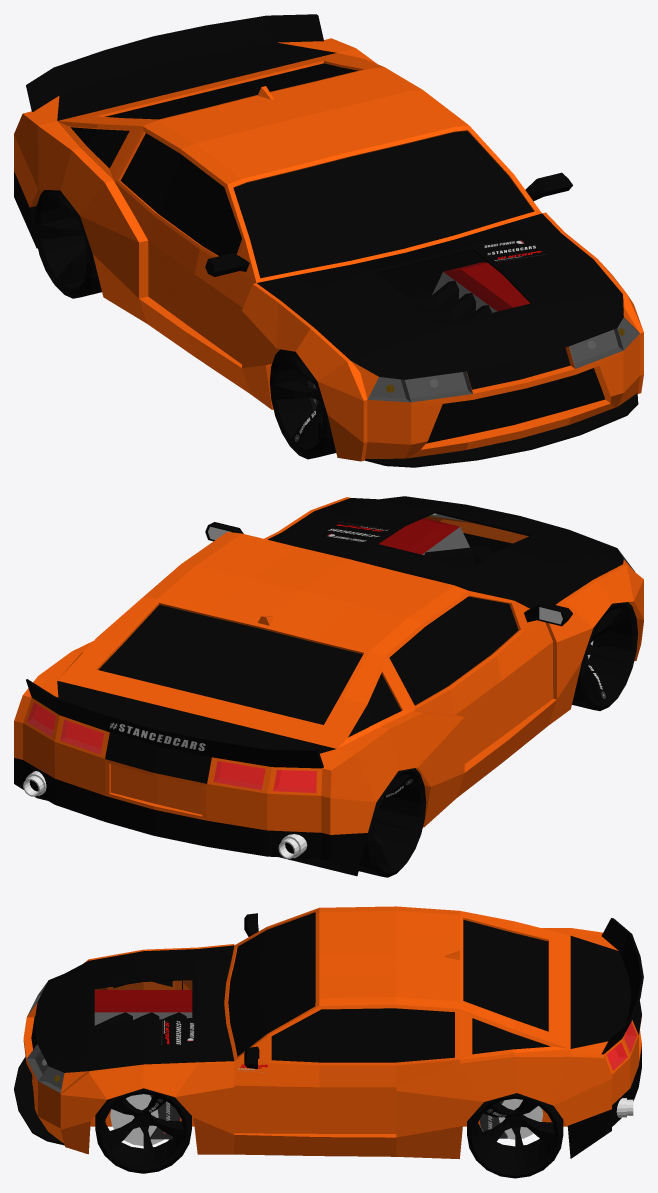
The picture shows the model from 3 angles, top to bottom: view 1: azimuth 30°, elevation 25°; view 2: azimuth 150°, elevation 25°; view 3: azimuth 270°, elevation 25°; orthographic projection. The views are drawn at different scales.
Visible parts, largest first — view 1: Muscle car 3.Body, e.Wheel.Bk.R, e.Wheel.Ft.R; view 2: Muscle car 3.Body, e.Wheel.Bk.R, e.Wheel.Ft.R; view 3: Muscle car 3.Body, e.Wheel.Bk.L, e.Wheel.Ft.L, e.WheelBrake.Ft.L.
Part boxes in pixels (bbox=[...]): Muscle car 3.Body: bbox=[14, 14, 643, 467]; e.Wheel.Bk.R: bbox=[34, 190, 101, 298]; e.Wheel.Ft.R: bbox=[269, 349, 336, 459]; Muscle car 3.Body: bbox=[14, 496, 643, 876]; e.Wheel.Bk.R: bbox=[359, 768, 426, 877]; e.Wheel.Ft.R: bbox=[572, 602, 637, 710]; Muscle car 3.Body: bbox=[14, 906, 643, 1158]; e.Wheel.Bk.L: bbox=[467, 1093, 563, 1178]; e.Wheel.Ft.L: bbox=[95, 1088, 191, 1173]; e.WheelBrake.Ft.L: bbox=[150, 1095, 180, 1139].
Size of the model in its own units: 155 by 79.24 by 283.
Materials: 25 (4 with a texture image).
